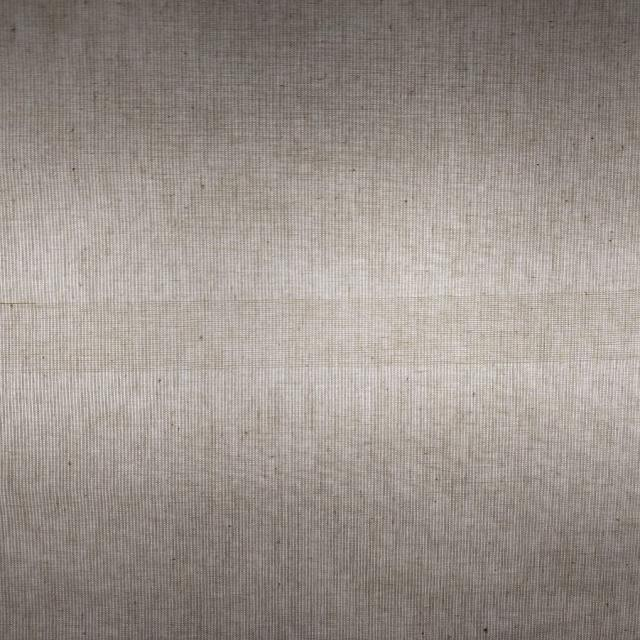Thread_other: (18, 246, 626, 420)
